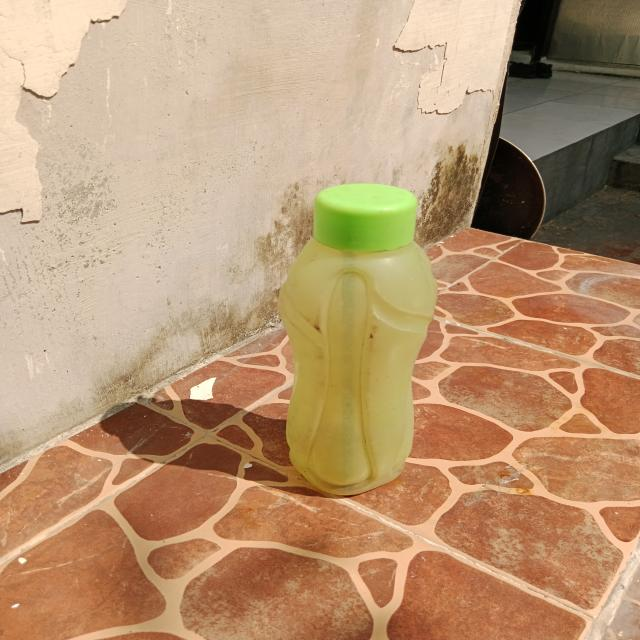botol_minum: (266, 179, 446, 510)
